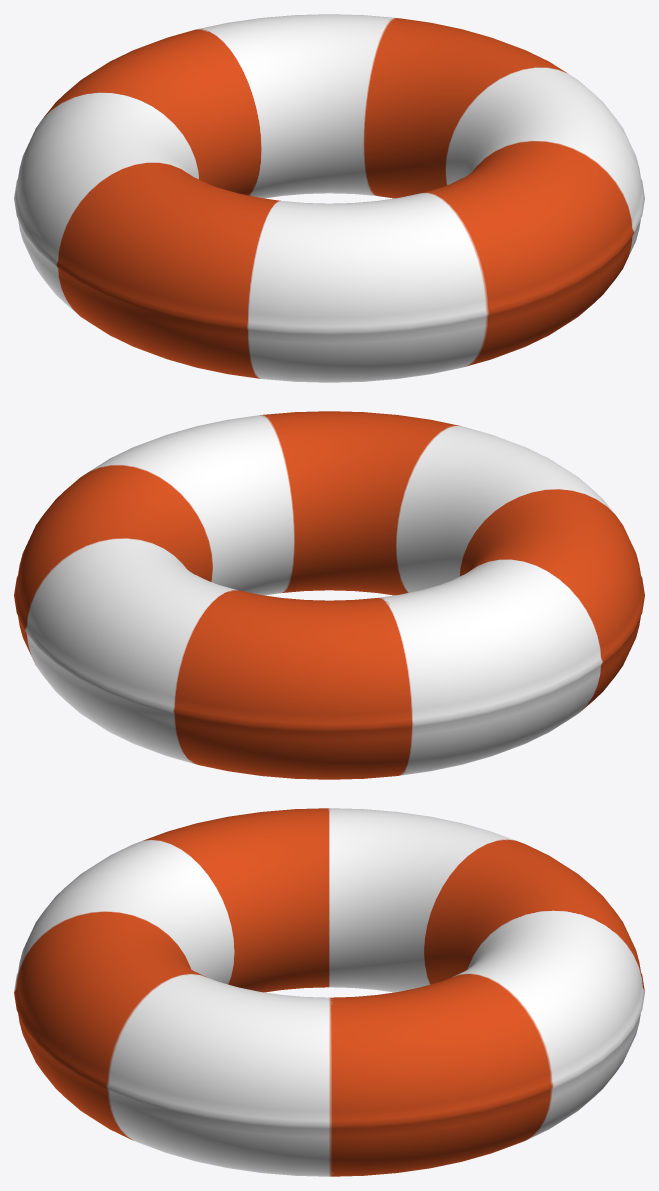
The model's file is SwinRing.fbx.
The picture shows the model from 3 angles, top to bottom: view 1: azimuth 30°, elevation 25°; view 2: azimuth 150°, elevation 25°; view 3: azimuth 270°, elevation 25°; orthographic projection.
Visible parts, largest first — view 1: SwinRing; view 2: SwinRing; view 3: SwinRing.
Boxes of the visible parts, left/top/right/bottom form: SwinRing: left=14, top=14, right=644, bottom=382; SwinRing: left=14, top=411, right=644, bottom=779; SwinRing: left=14, top=808, right=644, bottom=1176.
Size of the model in its own units: 0.8447 by 0.24 by 0.8447.
